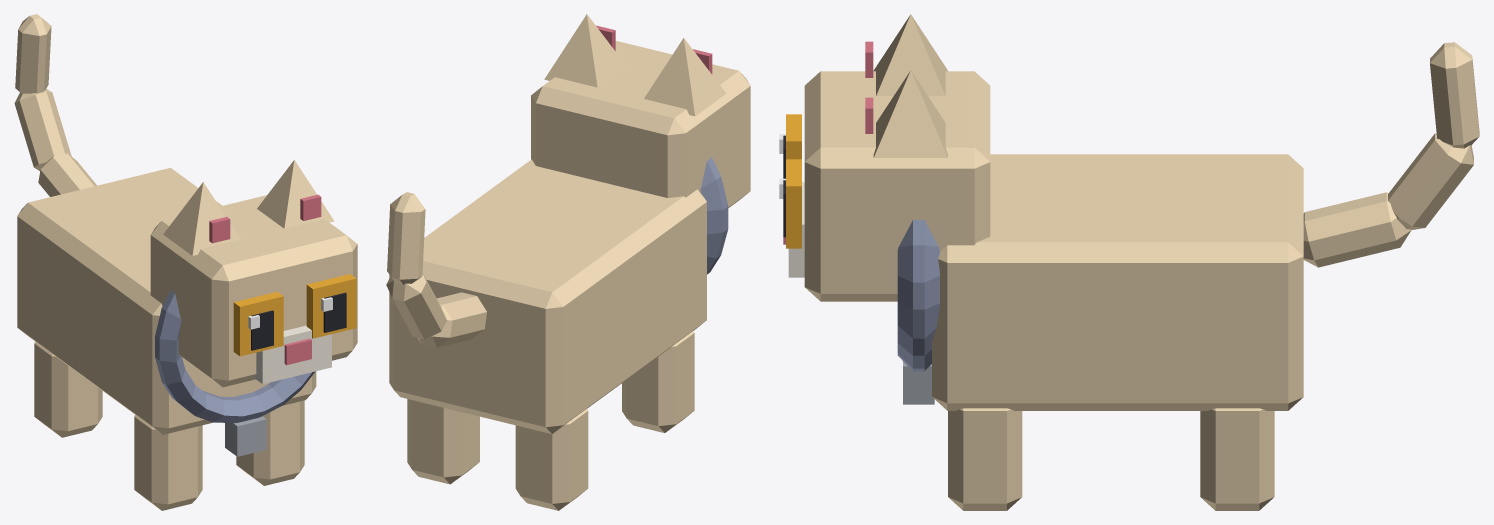
Rendered from CatCafe_Cat_Cream.glb.
3 views of the same model, side by side, from view 1: azimuth 30°, elevation 25°; view 2: azimuth 150°, elevation 25°; view 3: azimuth 270°, elevation 25° (orthographic). The views are drawn at different scales.
Parts seen in each view (by area): view 1: CatCafe_Cat_Cream_Body, CatCafe_Cat_Cream_Head, CatCafe_Cat_Cream_Tail; view 2: CatCafe_Cat_Cream_Body, CatCafe_Cat_Cream_Head, CatCafe_Cat_Cream_Tail; view 3: CatCafe_Cat_Cream_Body, CatCafe_Cat_Cream_Head, CatCafe_Cat_Cream_Tail.
Boxes of the visible parts, x1,y1,x2,y2 form: CatCafe_Cat_Cream_Body: (17,168,316,510); CatCafe_Cat_Cream_Head: (150,160,357,387); CatCafe_Cat_Cream_Tail: (14,14,96,196); CatCafe_Cat_Cream_Body: (389,157,728,510); CatCafe_Cat_Cream_Head: (531,14,750,207); CatCafe_Cat_Cream_Tail: (386,192,486,347); CatCafe_Cat_Cream_Body: (897,154,1303,510); CatCafe_Cat_Cream_Head: (779,14,990,301); CatCafe_Cat_Cream_Tail: (1303,42,1479,267).
Bounding box in the file's own units: 0.97 × 1.78 × 2.64.
1 material, 1 textured.
